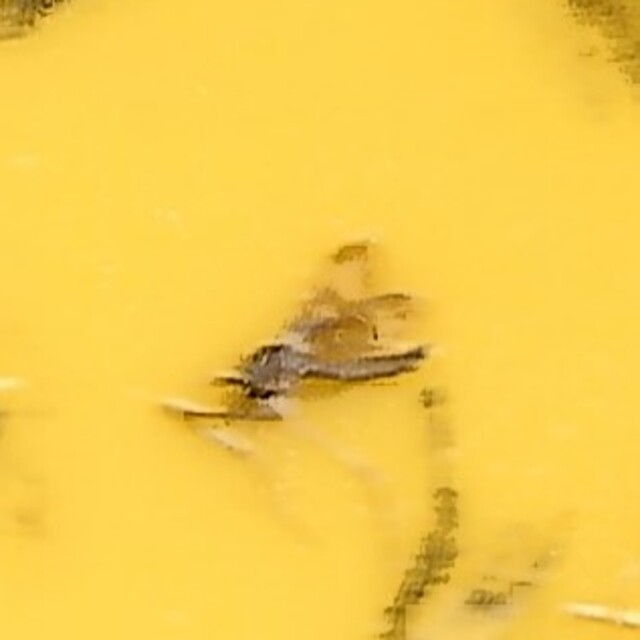Nematocera: (202, 208, 438, 432)
